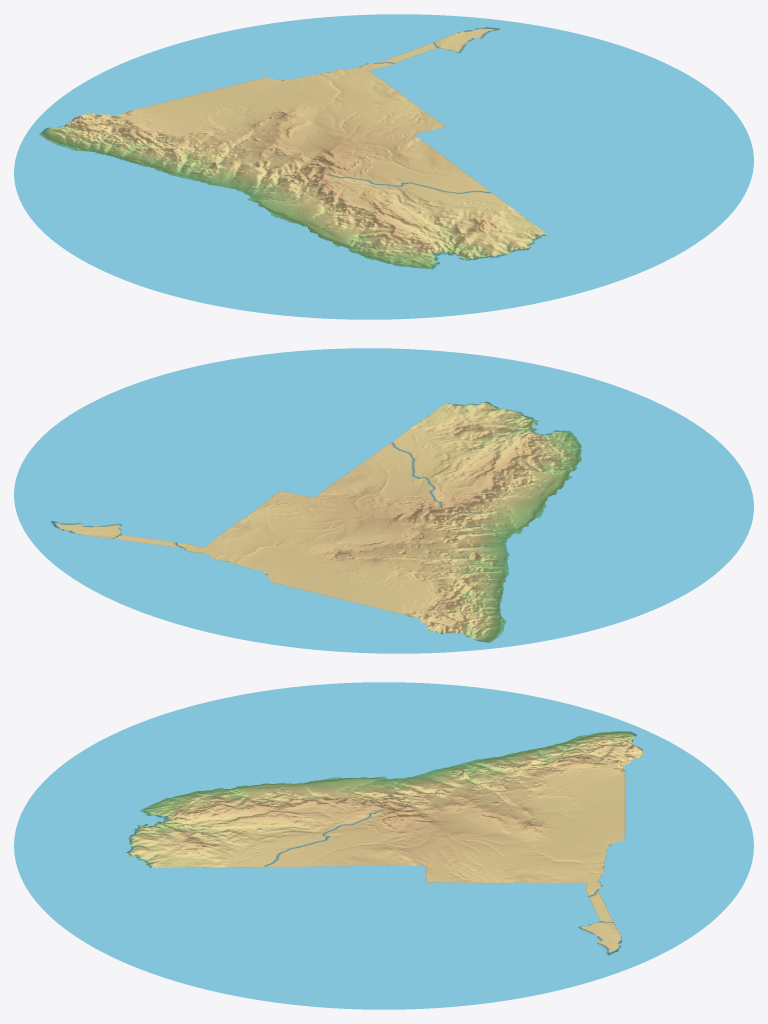
Rendered from NAM-terrain.glb.
The picture shows the model from 3 angles, top to bottom: view 1: azimuth 30°, elevation 25°; view 2: azimuth 150°, elevation 25°; view 3: azimuth 270°, elevation 25°; orthographic projection. The views are drawn at different scales.
Parts seen in each view (by area): view 1: Relevo com hidrografia; view 2: Relevo com hidrografia; view 3: Relevo com hidrografia.
Boxes of the visible parts, x1,y1,x2,y2 form: Relevo com hidrografia: (14,14,753,319); Relevo com hidrografia: (14,348,753,653); Relevo com hidrografia: (14,682,753,1009).
Bounding box in the file's own units: 2.31 × 0.0303 × 2.21.
2 materials, 1 textured.
